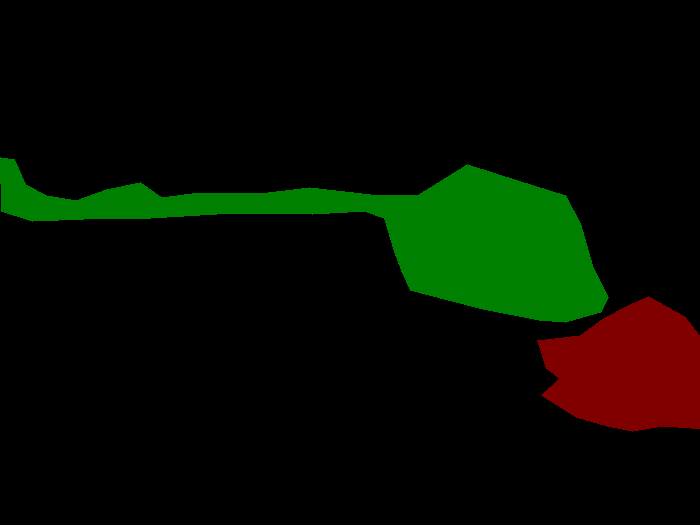fire: (0, 157, 608, 322), (537, 296, 699, 431)
